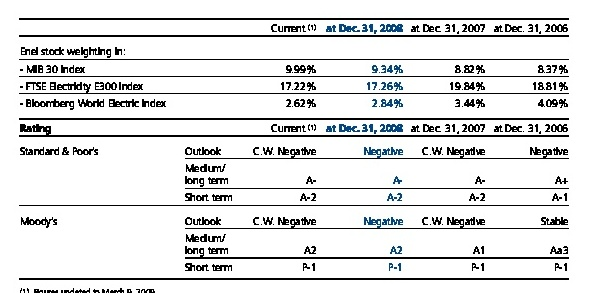table: (0, 0, 590, 293)
